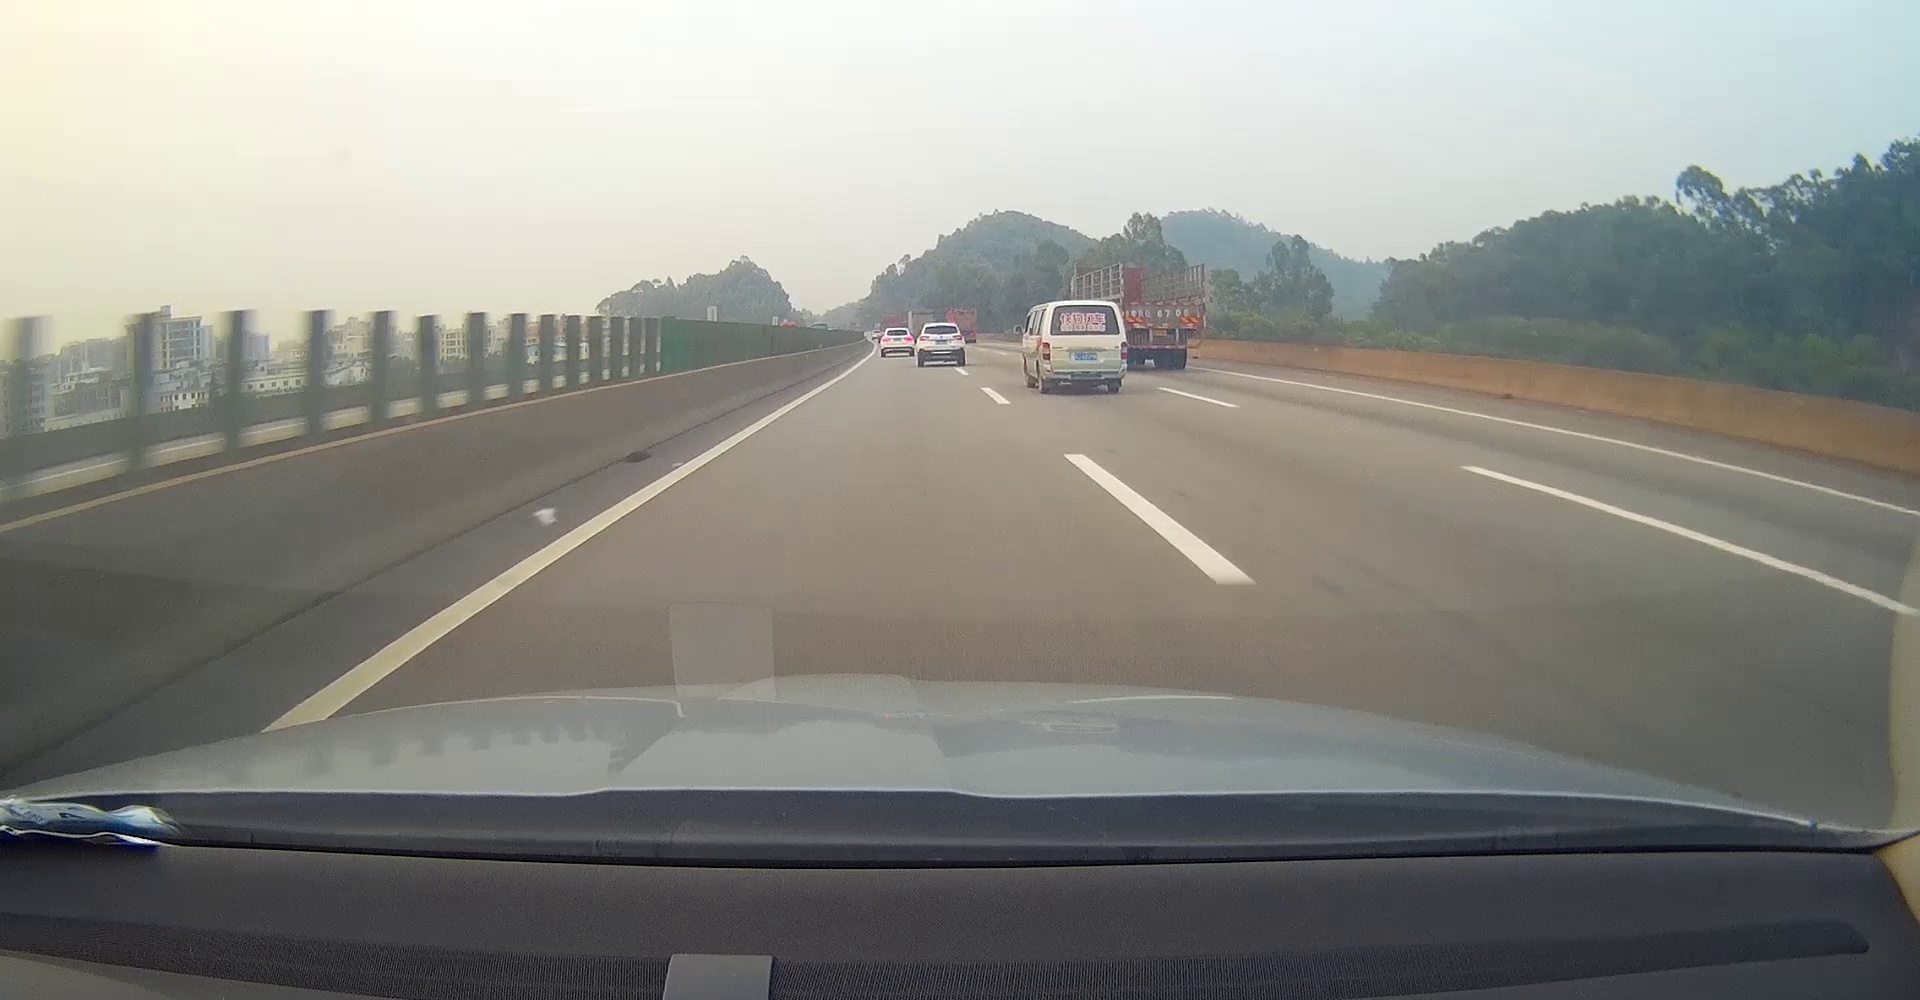L_light: (1043, 341, 1051, 360), (919, 336, 930, 341), (883, 338, 891, 341)
R_light: (1120, 341, 1128, 360), (952, 334, 963, 340), (905, 336, 912, 341)
T_light: (1079, 305, 1091, 308), (894, 329, 900, 332), (937, 325, 943, 329)
day-brake: (881, 327, 914, 357)
day-no: (1043, 301, 1129, 393), (916, 322, 965, 365)
